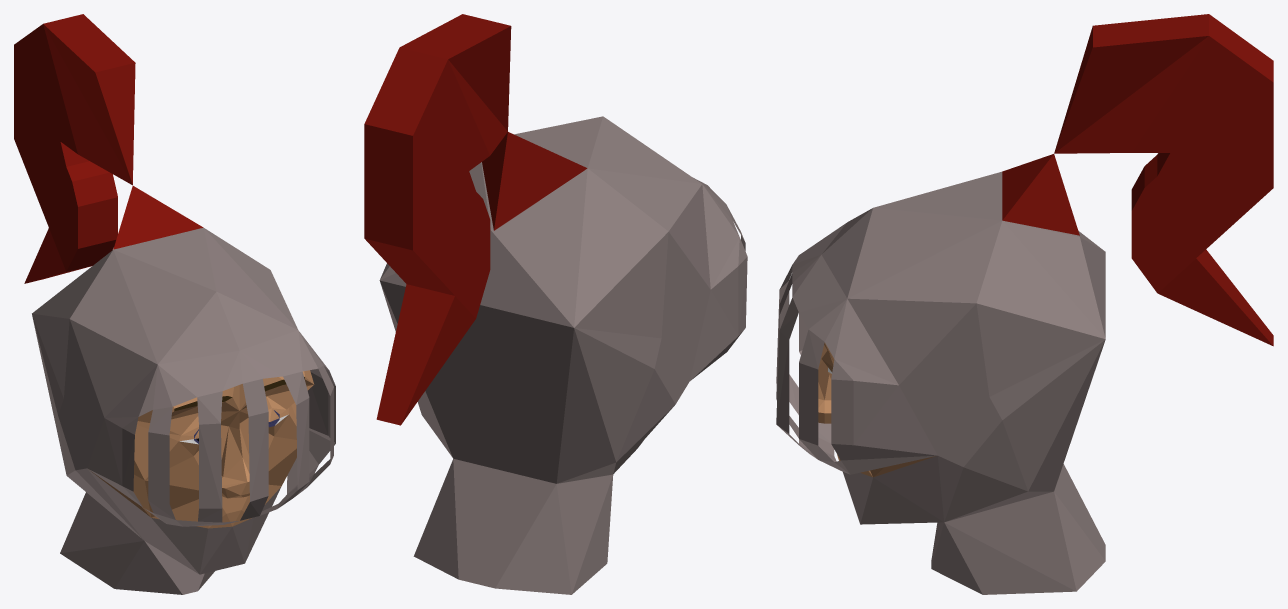
The model's file is model_116_obj_wear.obj.
3 views of the same model, side by side, from view 1: azimuth 30°, elevation 25°; view 2: azimuth 150°, elevation 25°; view 3: azimuth 270°, elevation 25° (orthographic). The views are drawn at different scales.
Visible parts, largest first — view 1: 116; view 2: 116; view 3: 116.
Boxes of the visible parts, left/top/right/bottom form: 116: left=14, top=14, right=335, bottom=594; 116: left=364, top=14, right=747, bottom=594; 116: left=776, top=14, right=1273, bottom=594.
Size of the model in its own units: 82 by 184 by 154.
